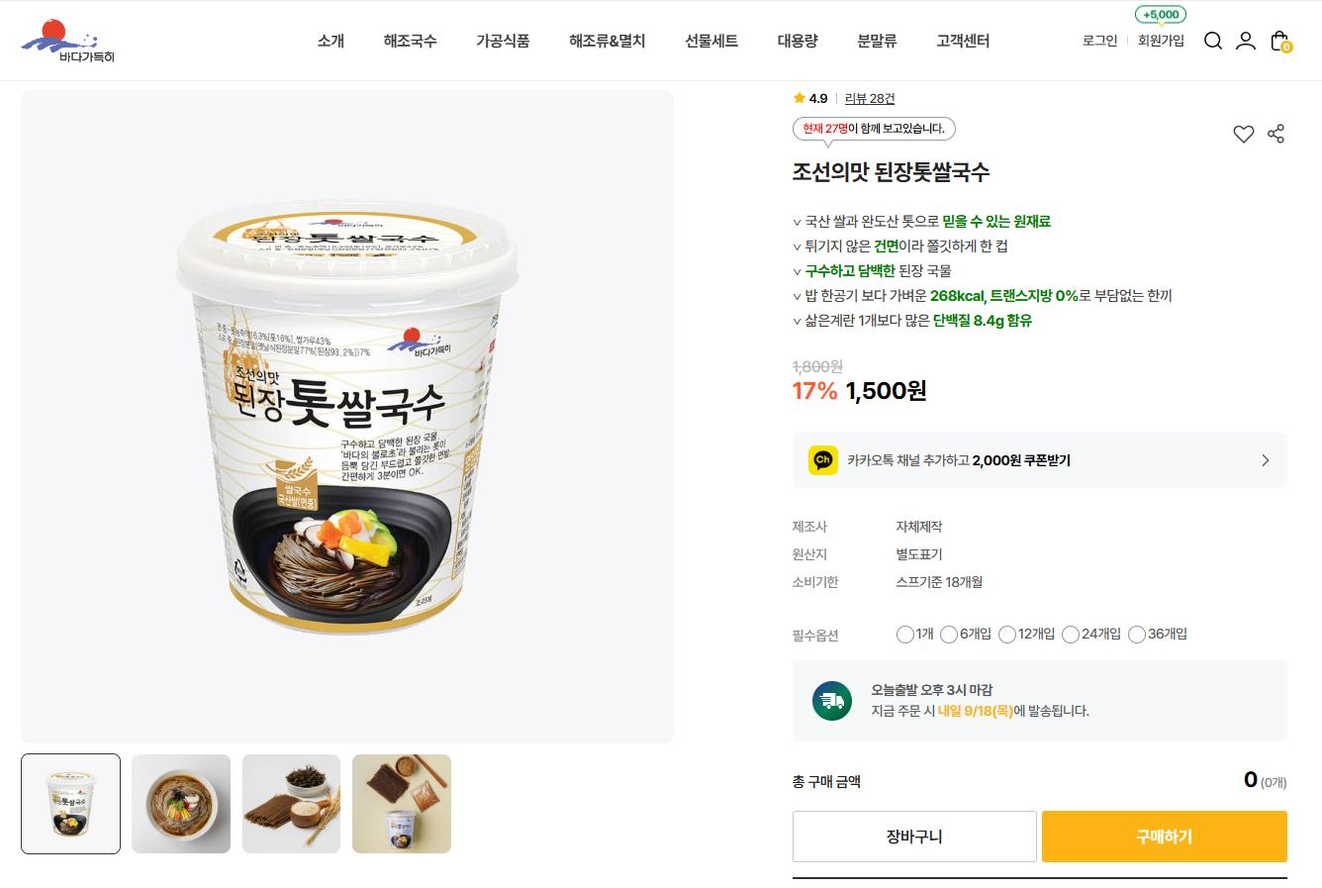button: (793, 432, 1289, 488), (791, 810, 1039, 864), (1042, 810, 1287, 863), (18, 750, 123, 858), (131, 751, 231, 855), (352, 753, 454, 853), (242, 751, 341, 854), (561, 21, 655, 59), (469, 22, 540, 59), (679, 24, 750, 60), (374, 23, 446, 58), (932, 21, 992, 60), (767, 22, 827, 59), (851, 22, 905, 58), (304, 24, 357, 60), (1134, 27, 1192, 59), (1078, 26, 1124, 60), (842, 86, 901, 111), (1197, 25, 1230, 57), (1232, 26, 1265, 58), (1228, 118, 1261, 150), (1265, 118, 1298, 150), (1266, 27, 1299, 58)
checkbox: (1126, 615, 1193, 649), (1061, 615, 1122, 650), (997, 616, 1057, 649), (939, 616, 993, 649), (894, 617, 936, 648)
popup: (788, 113, 973, 152), (1128, 0, 1194, 27)
